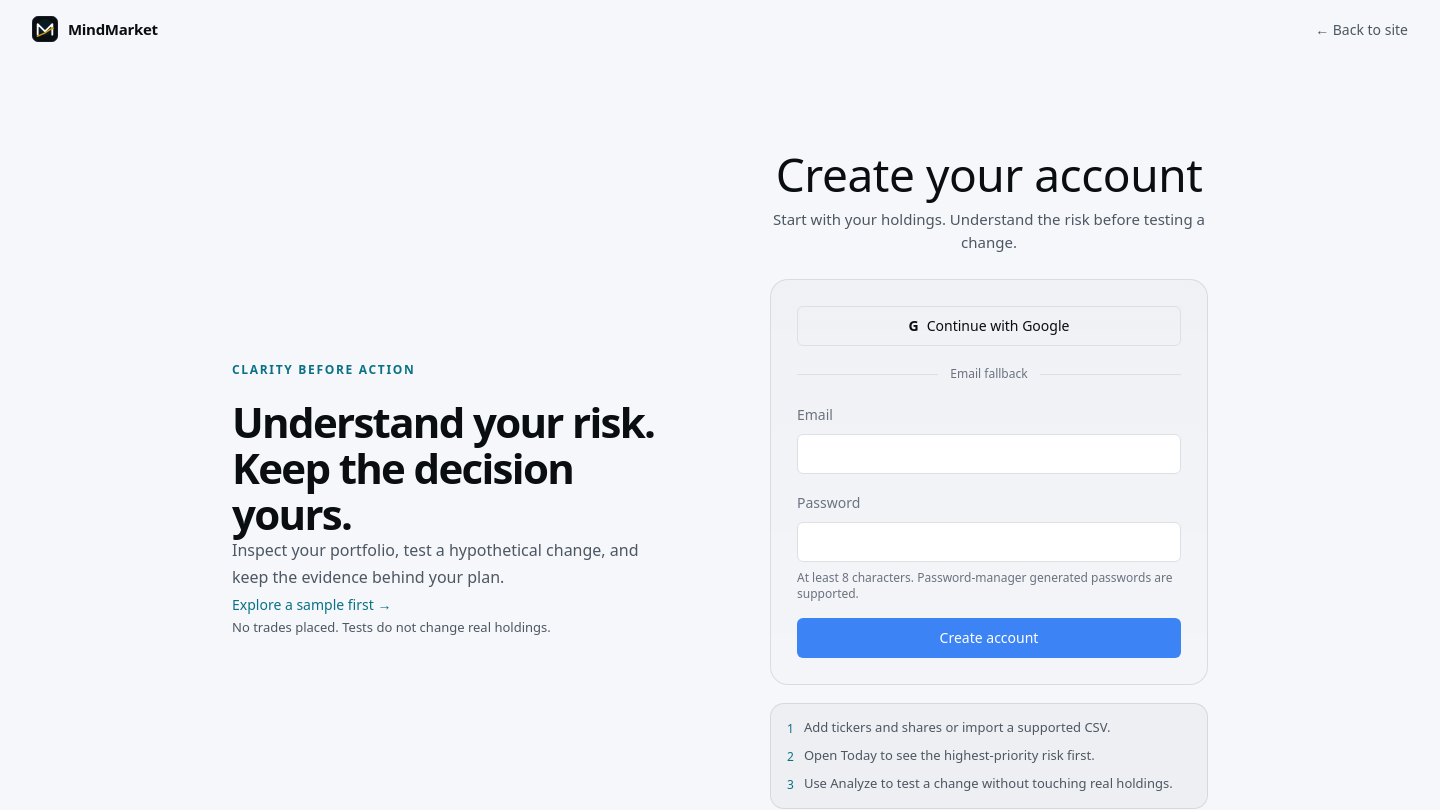
Test: SignupPage › shows 'check your email' when confirmation is required
The image size is (1440, 810).
Type "new@mindmarket.test" into the field labelled "Email".
click(989, 454); type("new@mindmarket.test")  # box [797, 434, 1181, 474]
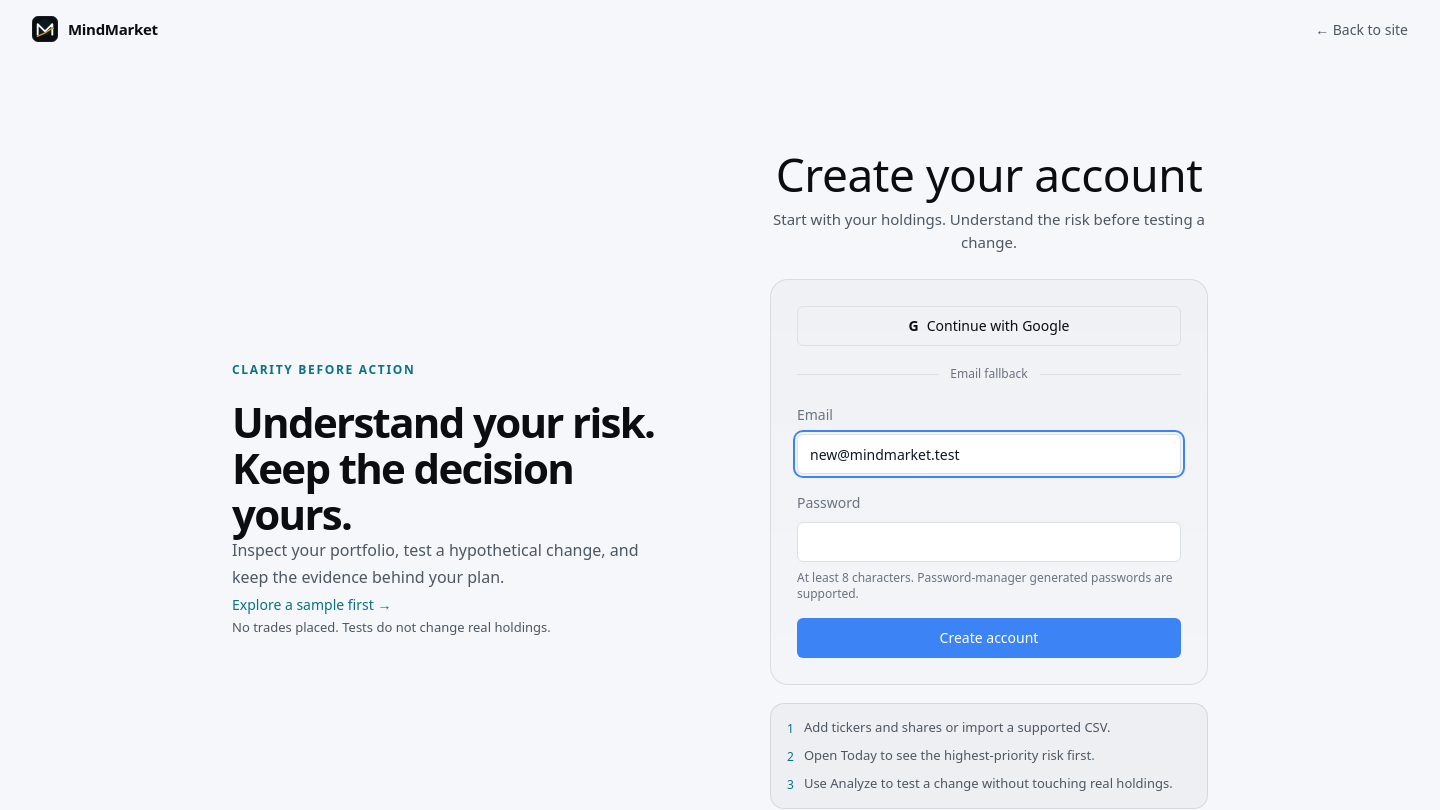
Type "longpassword" into the password field labelled "Password".
click(989, 542); type("longpassword")  # box [797, 522, 1181, 562]
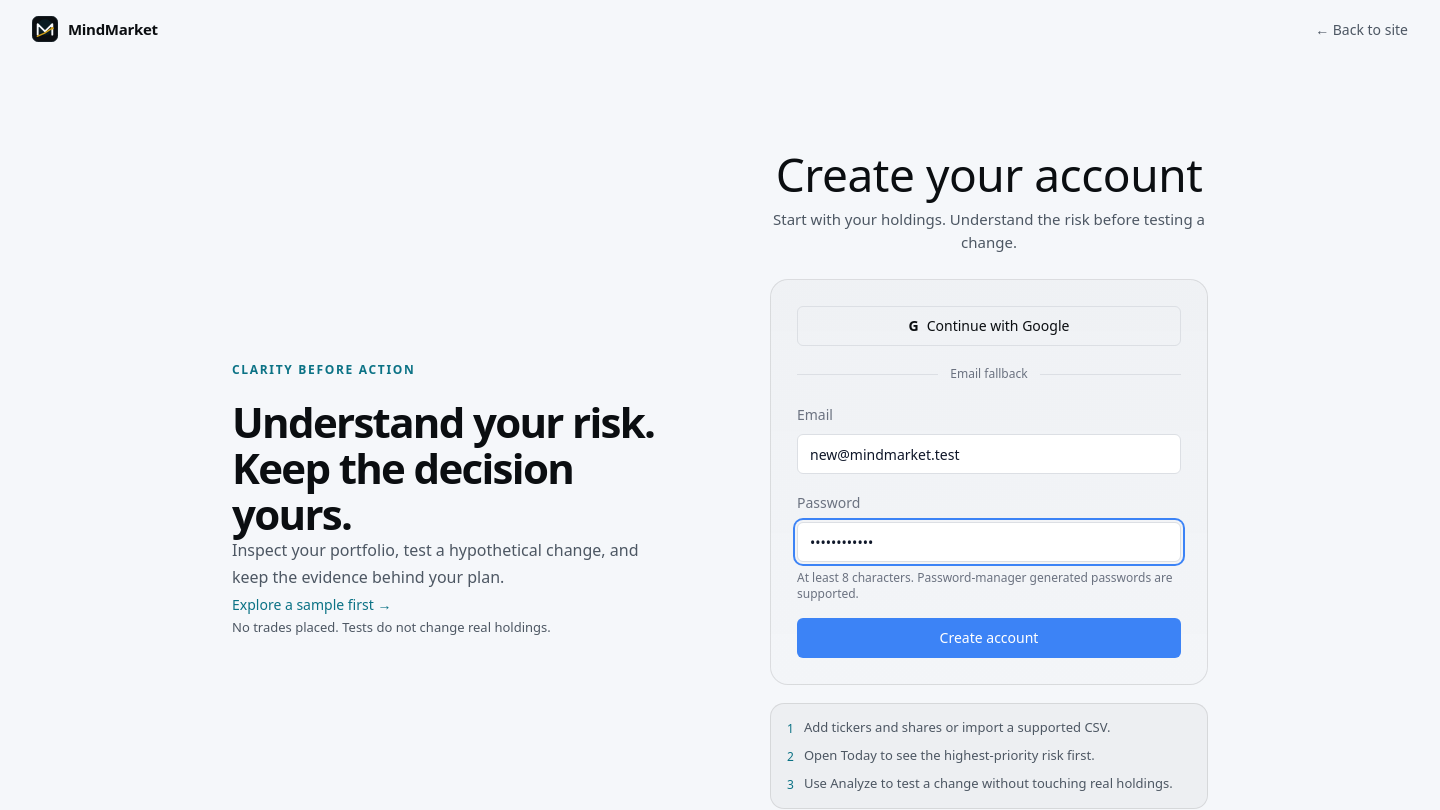
Click the button "Create account".
click(989, 638)  # box [797, 618, 1181, 658]
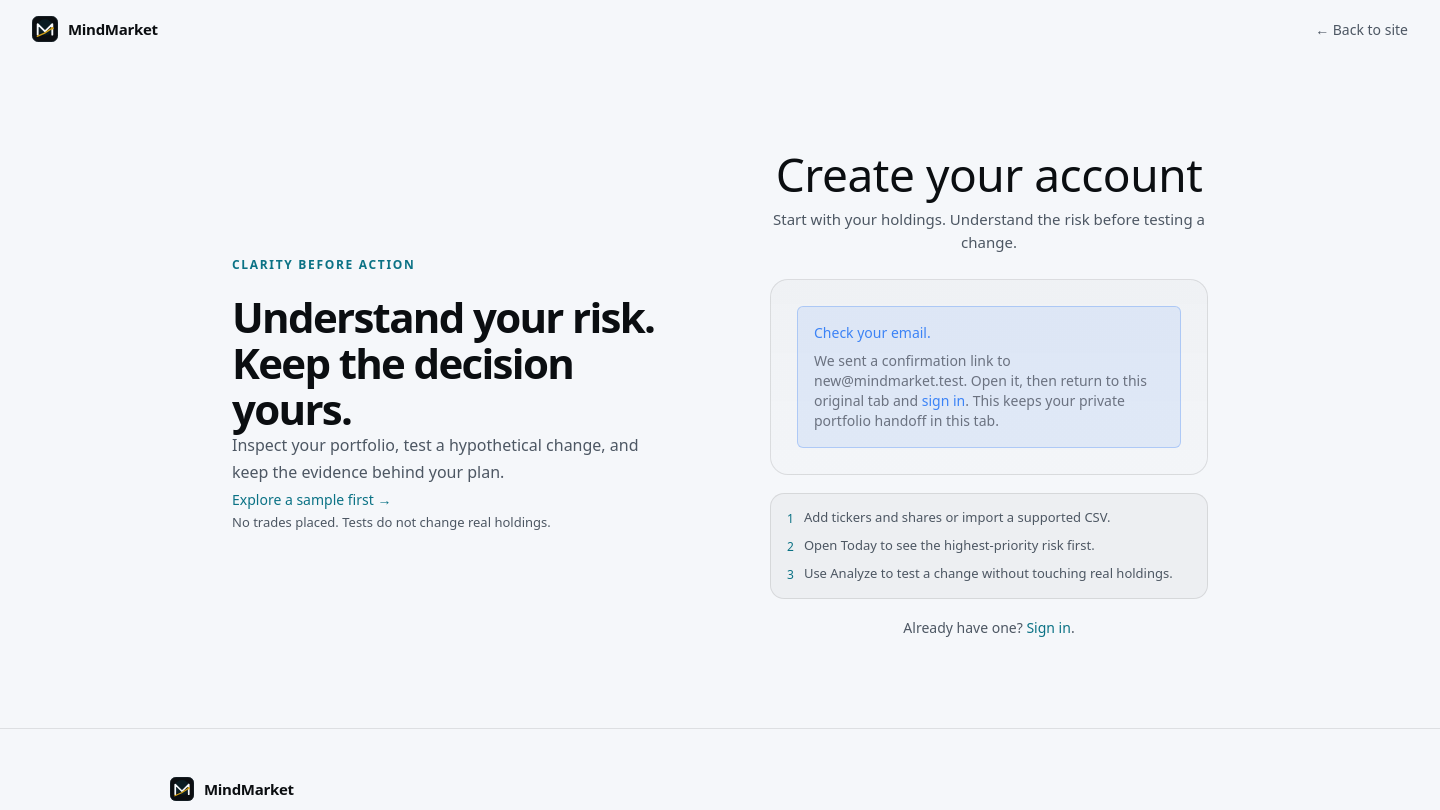
Expected: the text "Check your email." is shown, [814, 323, 931, 342]
